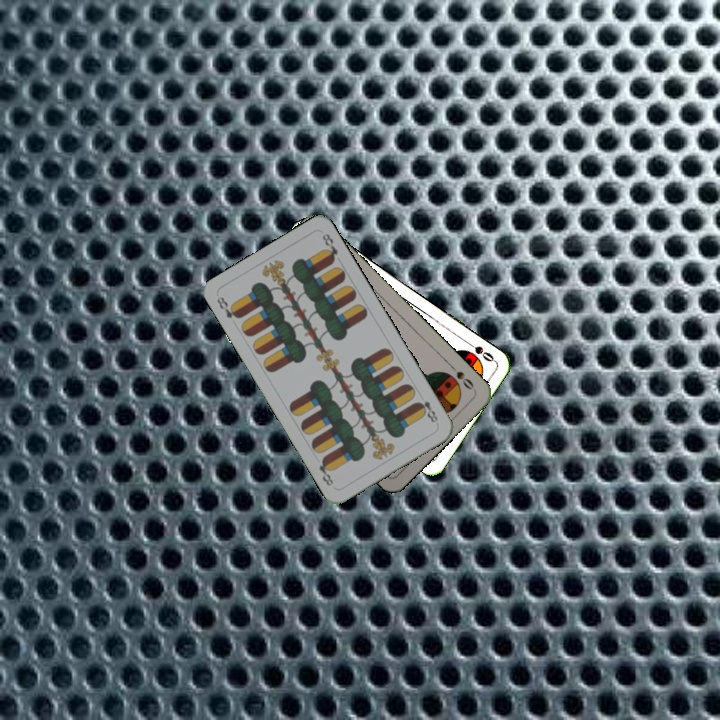E8: (213, 292, 243, 321), (413, 396, 441, 427)
SO: (461, 336, 497, 364), (446, 361, 476, 392)
